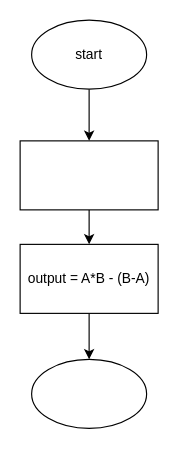
The diagram is 178 pixels wide and 449 high, and some of its shapes have lost their labels. The centre of each missing label's shape, as x and y in pixels:
A = user input (int) B = user input (int): pixel 88 175
return output: pixel 88 393
